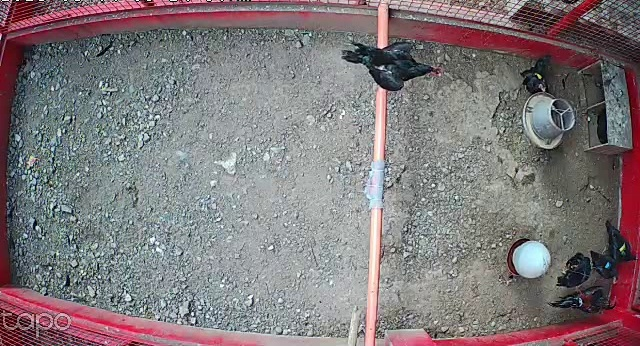Chicken: (339, 34, 447, 93), (594, 216, 640, 260), (552, 248, 594, 288), (520, 52, 555, 97), (587, 247, 619, 286)
Rooster: (546, 285, 623, 316)
Saddle_Color_Blue: (606, 261, 611, 270)
Saddle_Color_Yellow: (534, 71, 542, 79)
Saddle_Color_YellowGreen: (620, 242, 627, 255)
